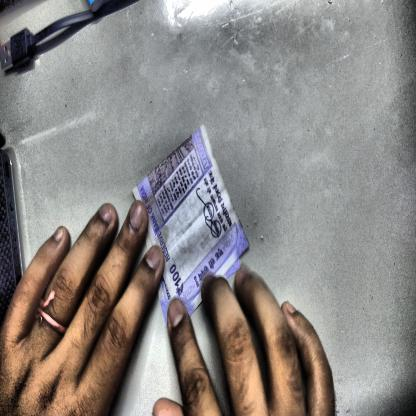Rs100: (167, 259, 187, 301)
